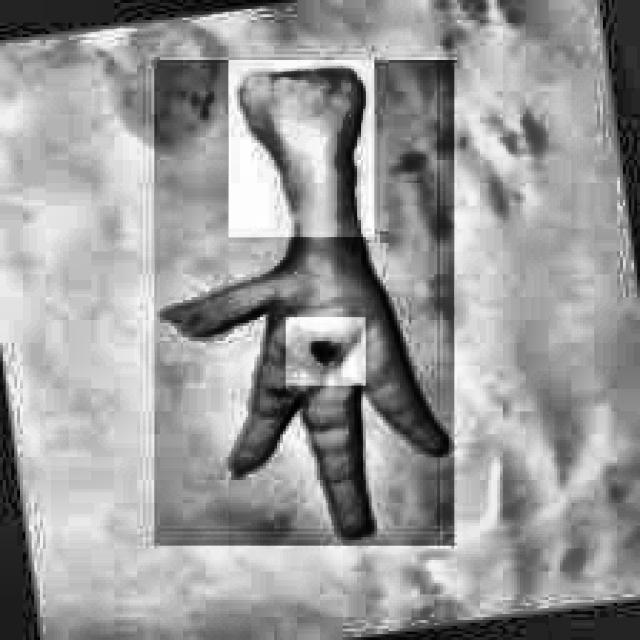Bumble foot: (157, 63, 452, 540), (306, 334, 340, 366)
